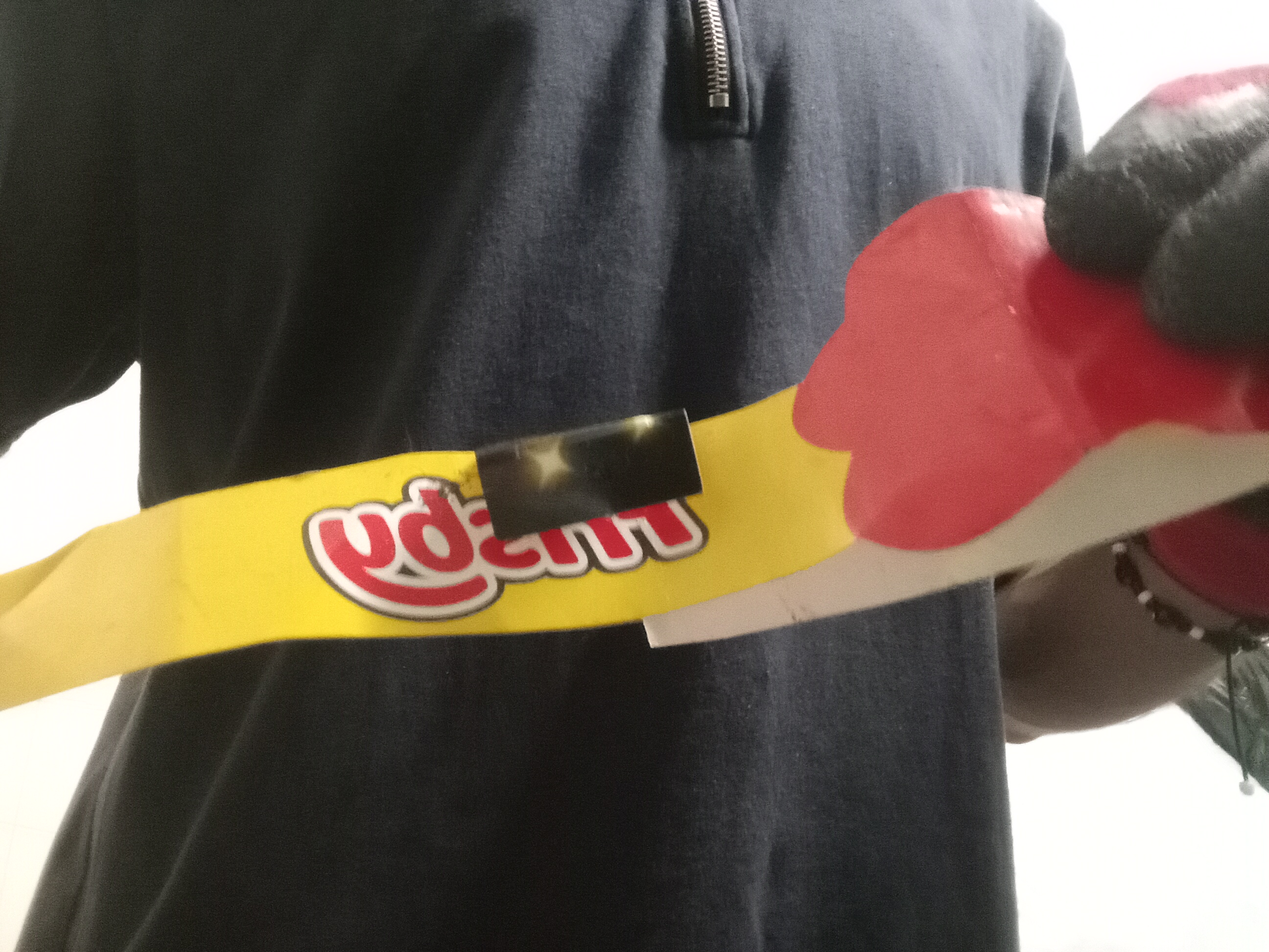Carton: (0, 187, 1260, 710)
